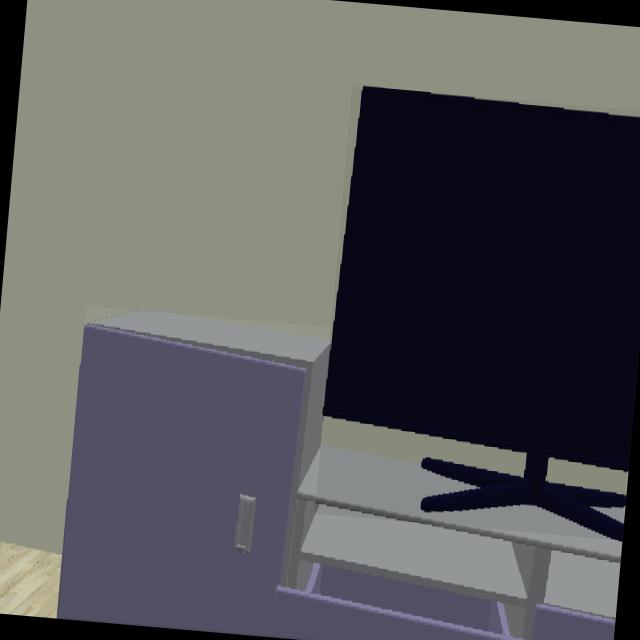cabinet: (59, 311, 621, 640)
monitor: (323, 86, 640, 540)
